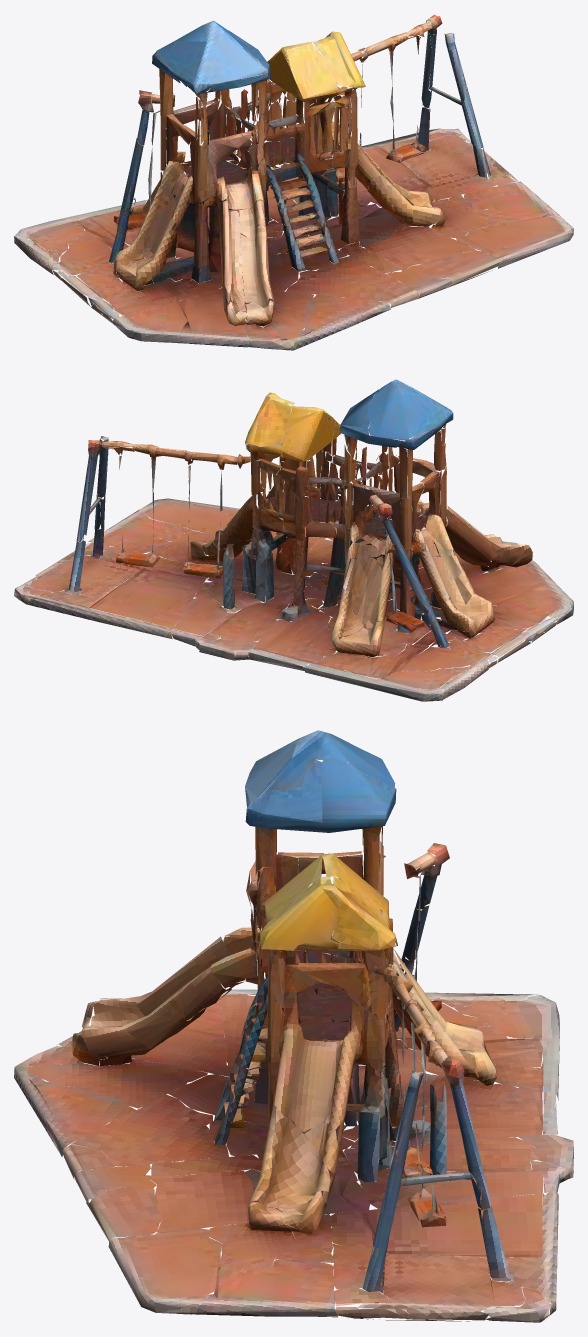
The model's file is playground.glb.
3 renders of one model, top to bottom at view 1: azimuth 30°, elevation 25°; view 2: azimuth 150°, elevation 25°; view 3: azimuth 270°, elevation 25°, orthographic. The views are drawn at different scales.
Visible parts, largest first — view 1: tripo_node_01a21f0d-3624-74cf-9f67-9438fff84438; view 2: tripo_node_01a21f0d-3624-74cf-9f67-9438fff84438; view 3: tripo_node_01a21f0d-3624-74cf-9f67-9438fff84438.
Boxes of the visible parts, x1,y1,x2,y2 form: tripo_node_01a21f0d-3624-74cf-9f67-9438fff84438: [14, 14, 573, 350]; tripo_node_01a21f0d-3624-74cf-9f67-9438fff84438: [14, 379, 573, 701]; tripo_node_01a21f0d-3624-74cf-9f67-9438fff84438: [14, 730, 573, 1322].
Size of the model in its own units: 13.98 by 7.29 by 10.15.
Materials: 1 (1 with a texture image).
